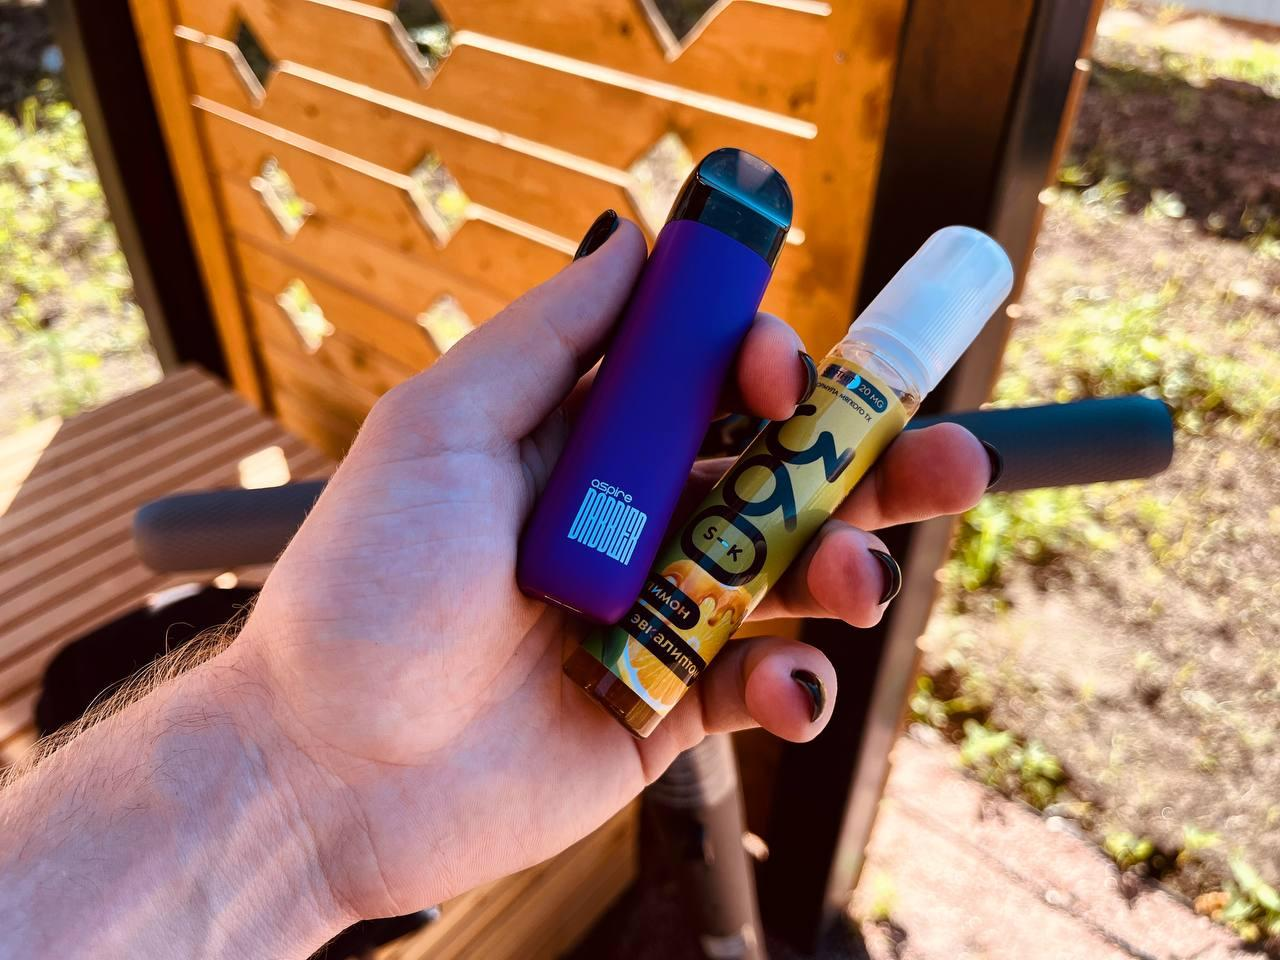Vape: (519, 149, 791, 621)
